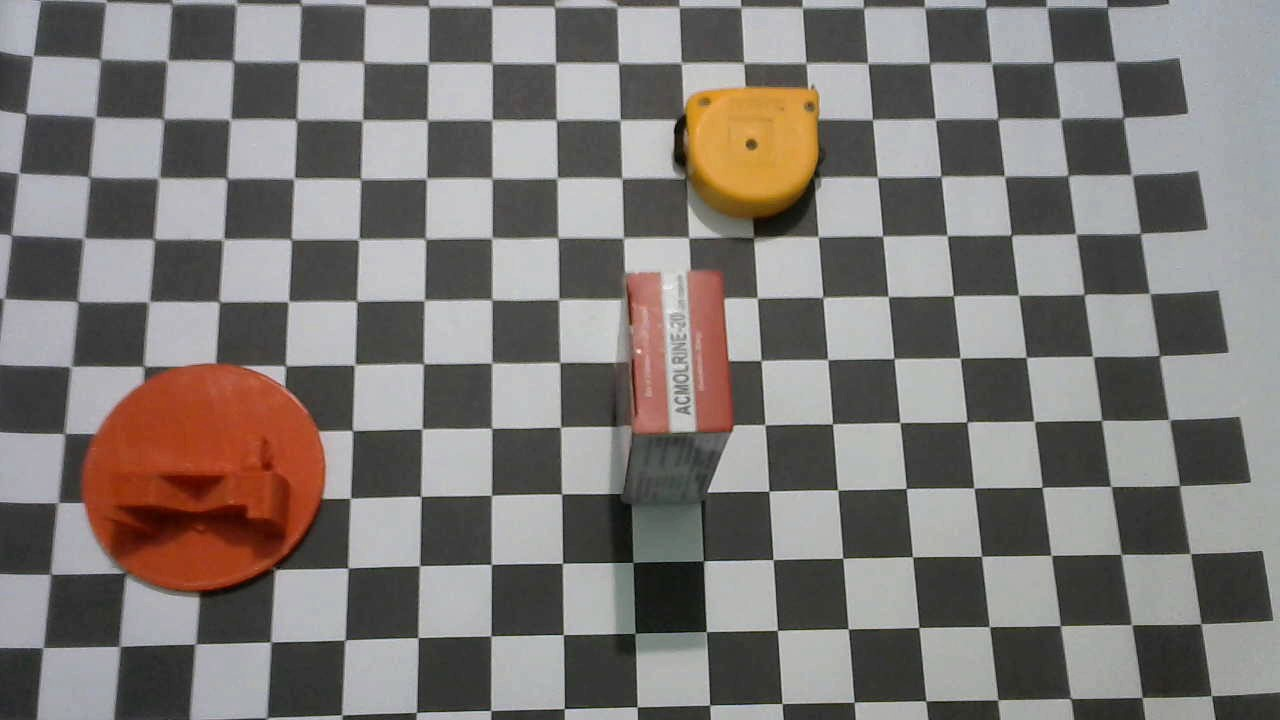blue: (672, 86, 825, 221)
green: (78, 365, 326, 594)
red: (614, 270, 735, 504)
